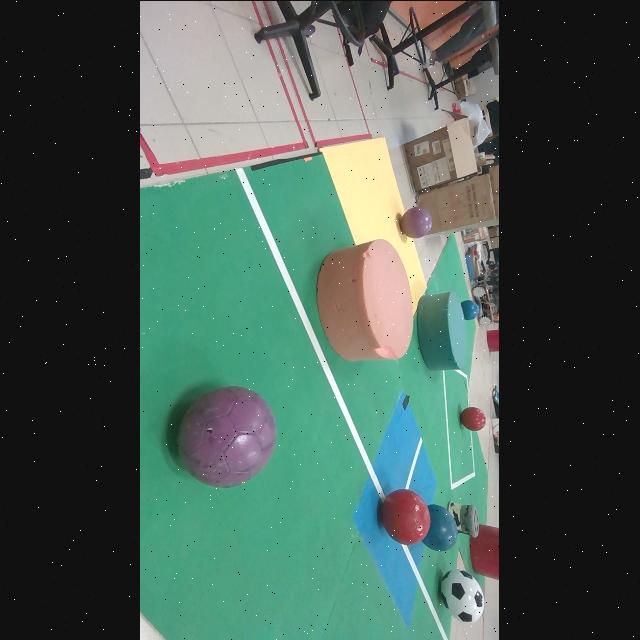B: (424, 504, 459, 551), (463, 300, 480, 318)
P: (178, 385, 277, 486), (401, 205, 433, 237)
R: (381, 488, 432, 545), (461, 405, 487, 430)
